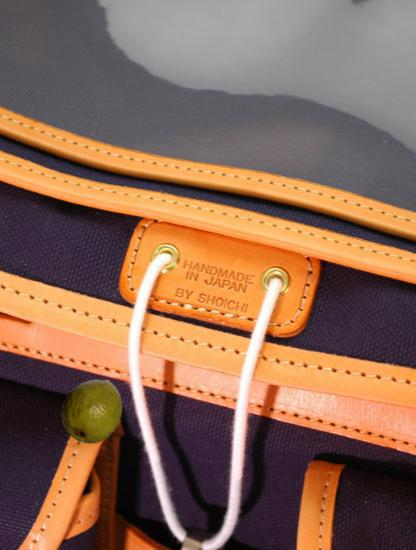Guava: (58, 376, 127, 445)
